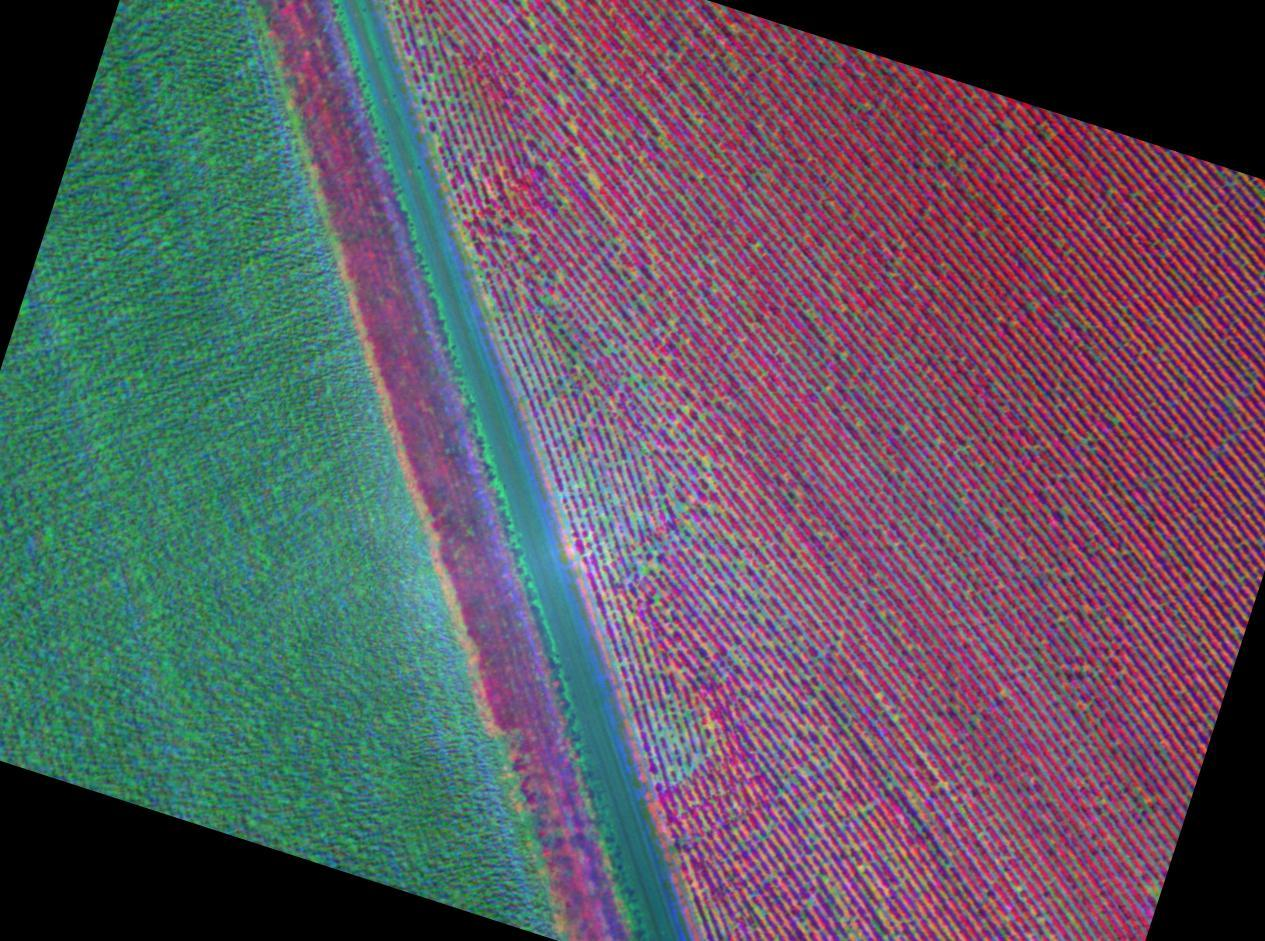dc: (590, 178, 596, 184), (538, 48, 543, 53), (639, 568, 644, 573), (556, 97, 561, 102), (683, 407, 687, 411), (703, 461, 707, 465), (681, 505, 685, 509), (629, 513, 632, 517), (915, 284, 918, 287), (822, 388, 825, 391)
